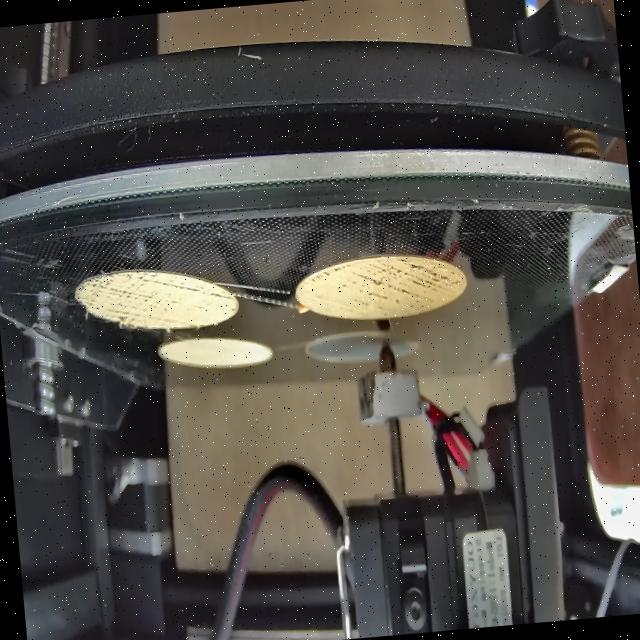under_extrusion: (308, 251, 465, 308), (82, 270, 179, 326), (178, 281, 236, 306)
